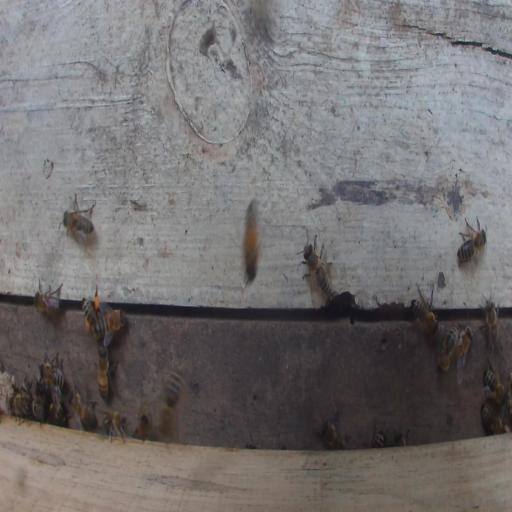bee: (301, 240, 333, 300), (457, 215, 487, 273), (63, 192, 96, 244), (159, 366, 181, 437), (409, 295, 440, 340), (243, 200, 259, 286), (68, 386, 98, 429), (95, 346, 117, 398), (33, 280, 63, 318), (436, 325, 459, 373), (483, 361, 506, 407), (99, 308, 127, 345), (482, 294, 499, 354), (317, 415, 345, 449), (81, 295, 101, 342), (102, 409, 127, 445), (454, 324, 473, 371), (481, 402, 506, 436), (10, 392, 32, 424), (39, 362, 65, 388), (50, 400, 66, 426), (136, 413, 148, 441), (32, 398, 44, 424), (393, 429, 409, 447), (371, 430, 386, 448)
